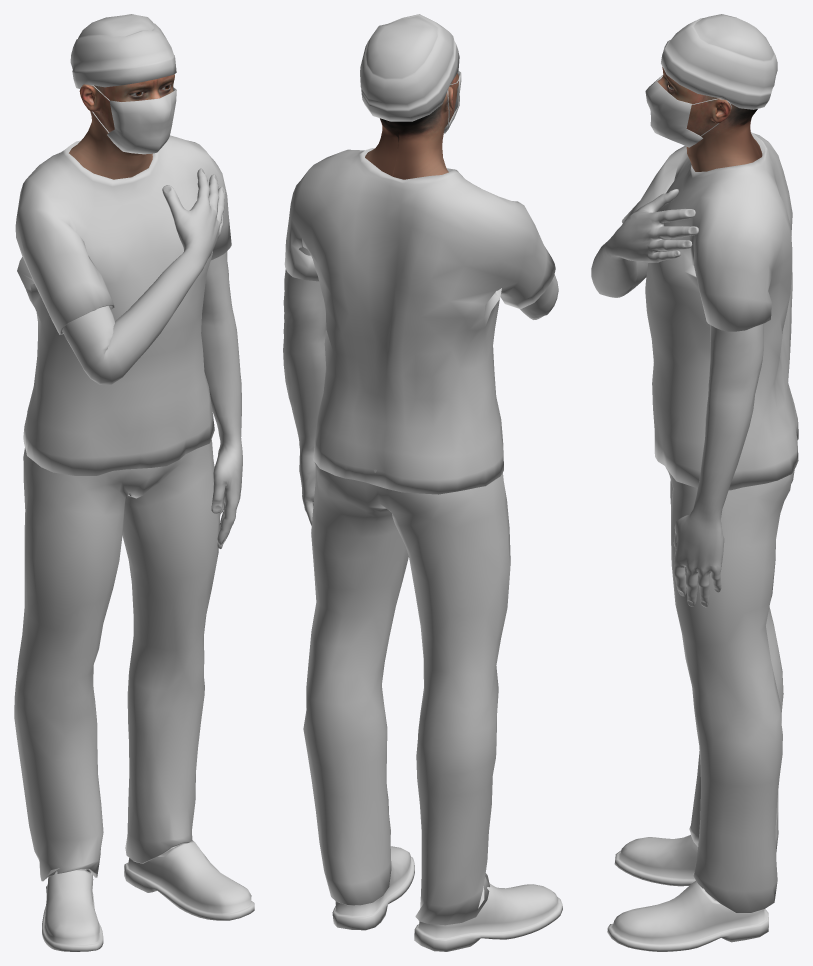
Rendered from pose_2.fbx.
The picture shows the model from 3 angles, left to right: view 1: azimuth 30°, elevation 25°; view 2: azimuth 150°, elevation 25°; view 3: azimuth 270°, elevation 25°; orthographic projection. The views are drawn at different scales.
Visible parts, largest first — view 1: clothes.001, body.001, hat.002, head_1.002, mask.002; view 2: clothes.001, hat.002, body.001, head_1.002; view 3: clothes.001, body.001, hat.002, head_1.002, mask.002.
Boxes of the visible parts, <box> form: clothes.001: <box>14,135,254,951</box>; body.001: <box>62,168,242,870</box>; hat.002: <box>70,14,176,88</box>; head_1.002: <box>69,74,174,179</box>; mask.002: <box>90,85,176,154</box>; clothes.001: <box>284,148,562,951</box>; hat.002: <box>360,14,459,121</box>; body.001: <box>283,247,558,525</box>; head_1.002: <box>365,73,458,179</box>; clothes.001: <box>607,132,798,951</box>; body.001: <box>591,189,763,900</box>; hat.002: <box>661,14,777,109</box>; head_1.002: <box>657,67,762,171</box>; mask.002: <box>645,75,731,147</box>.
Bounding box in the file's own units: 0.4156 × 1.56 × 0.3295.
